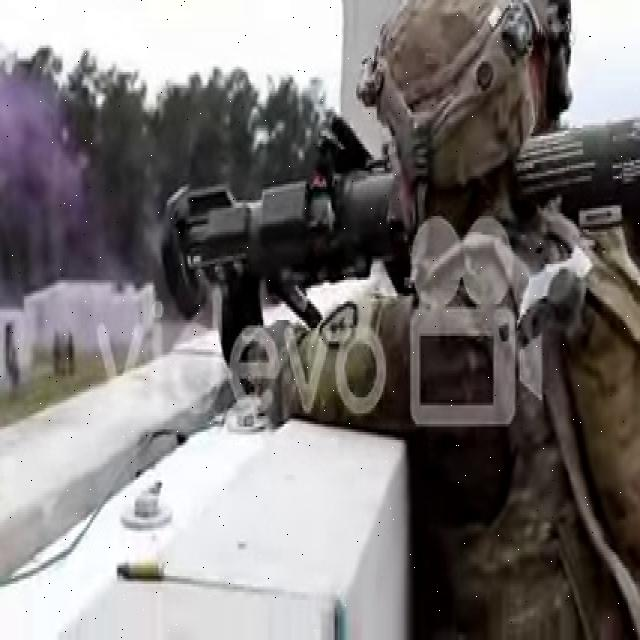bazooka: (156, 115, 640, 391)
